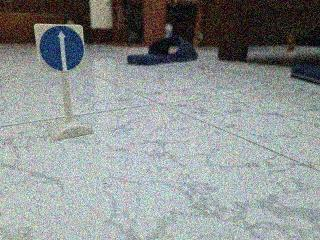straight: (38, 23, 86, 73)
